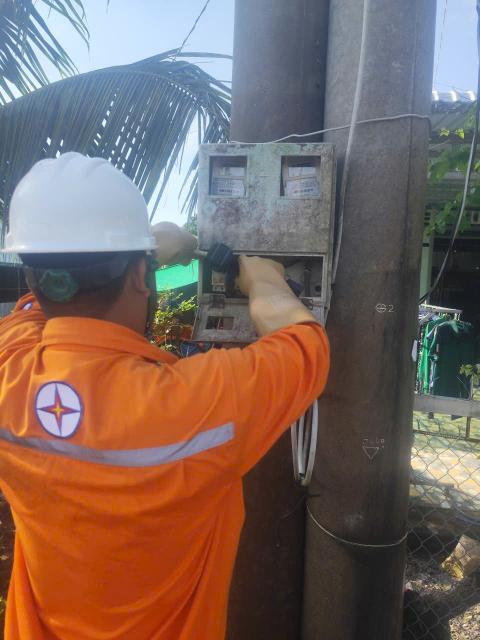gloves: (233, 253, 313, 343), (147, 220, 227, 272)
helmet: (4, 141, 169, 272)
